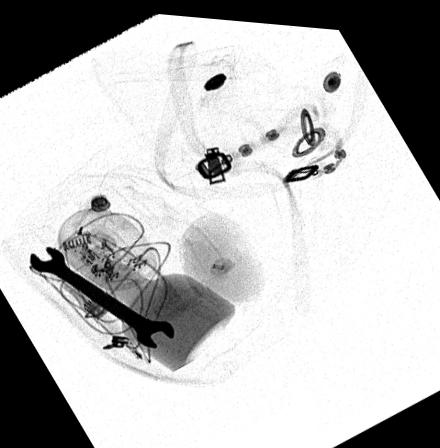Wrench: (28, 246, 176, 346)
